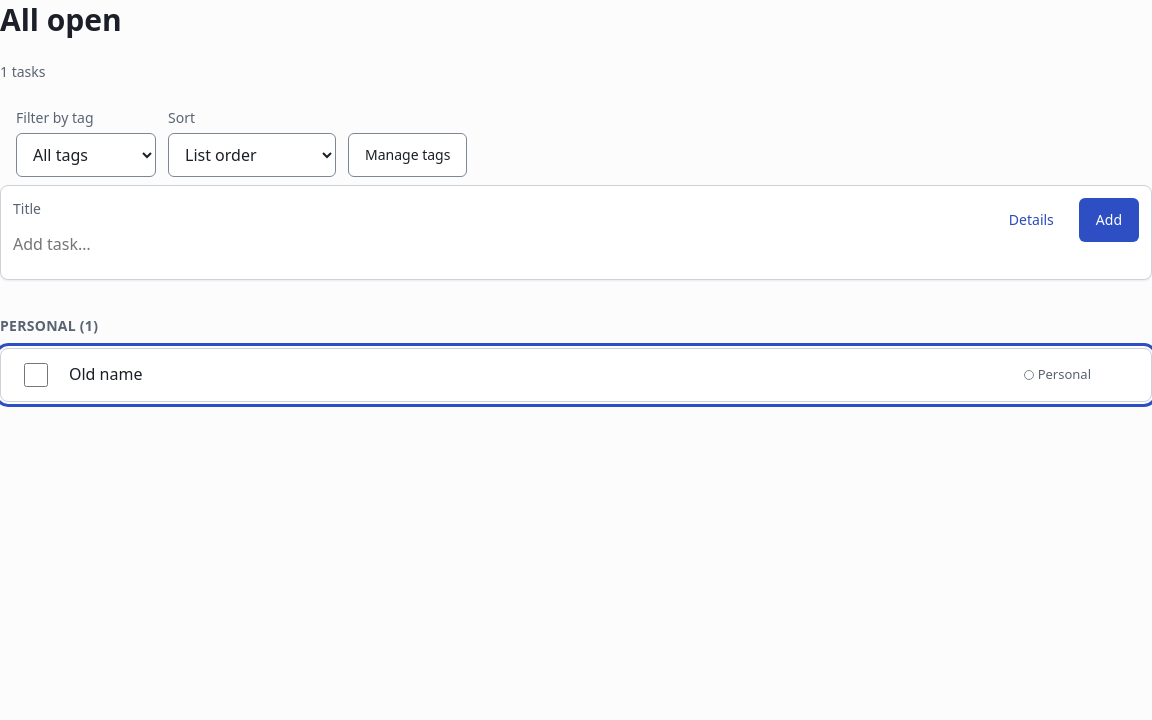
Test: keyboard-only: F2 edit › opens the editor with Enter, edits and saves with Enter
Press Enter in the list item "Old name Personal", box [0,348,1151,402]
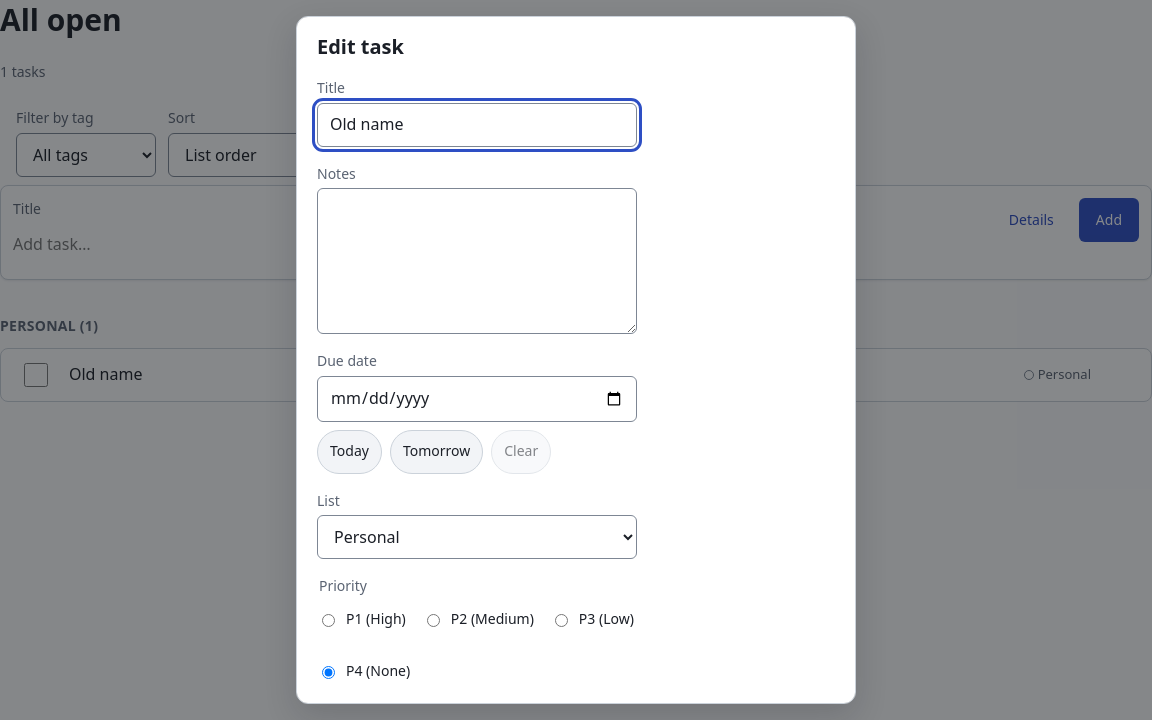
Check: the dialog "Edit task" is shown, box [296,16,856,704]
Replace the text in the field labelled "Title" with "New name" at (477, 125), box [317,103,637,147]
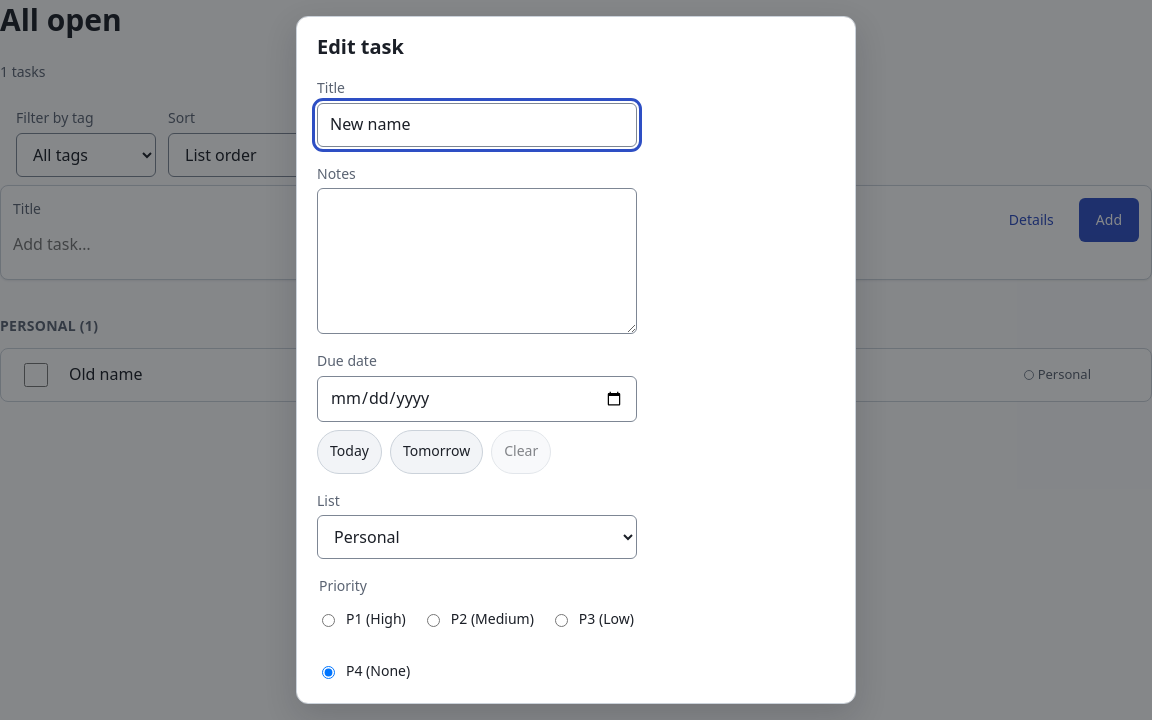
Press Enter in the field labelled "Title", box [317,103,637,147]
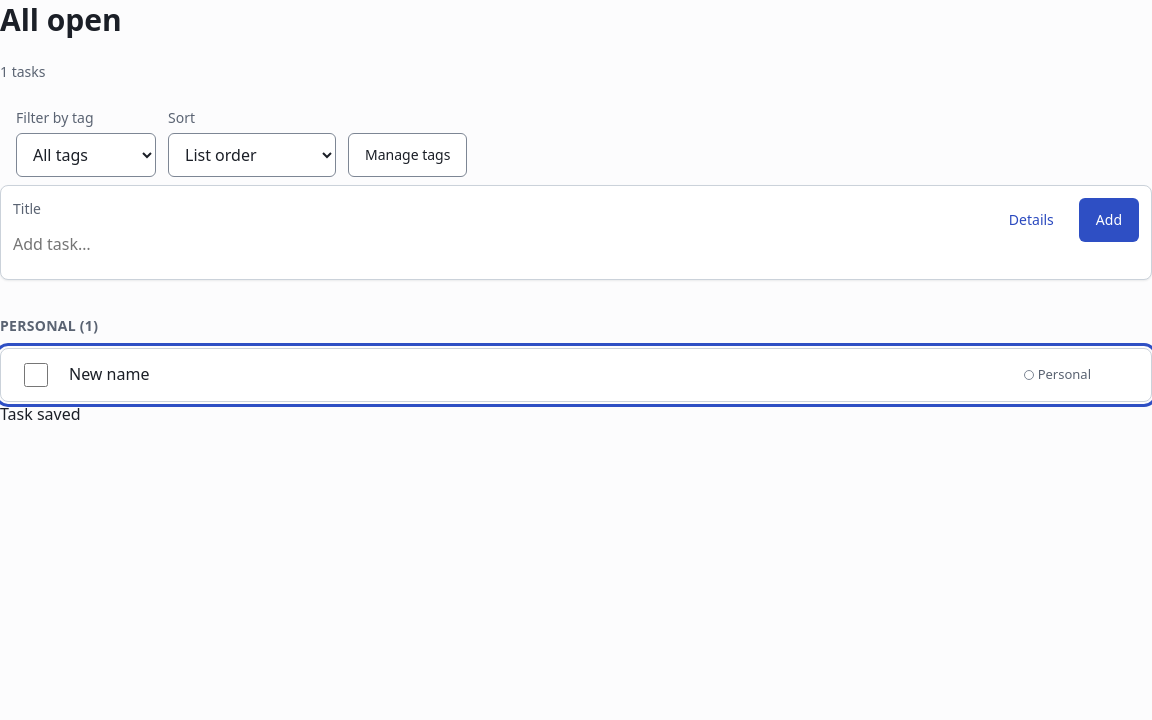
Check: the text "New name" is shown, box [69,363,150,385]
Check: the heading "Edit task" is gone
Check: the text "Task saved" is shown, box [0,403,81,425]
